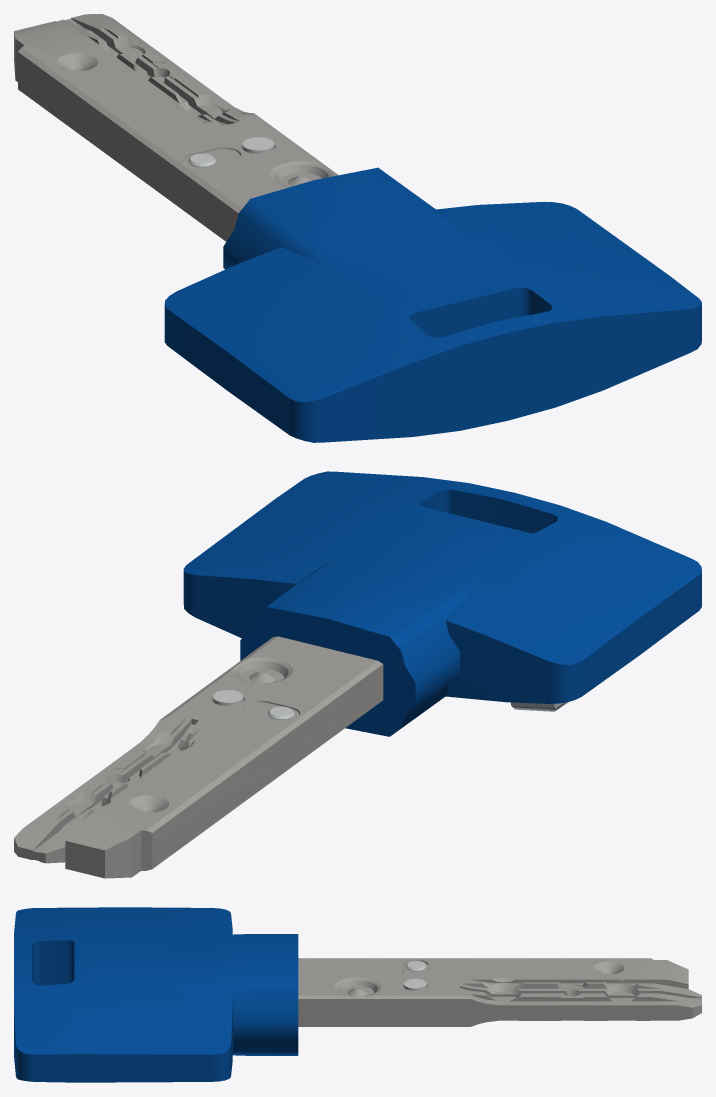
Rendered from CleScienceFiction.fbx.
3 views of the same model, one above another, from view 1: azimuth 30°, elevation 25°; view 2: azimuth 150°, elevation 25°; view 3: azimuth 270°, elevation 25° (orthographic). The views are drawn at different scales.
Visible parts, largest first — view 1: CleScienceFiction; view 2: CleScienceFiction; view 3: CleScienceFiction.
Boxes of the visible parts, x1,y1,x2,y2 form: CleScienceFiction: (14,14,701,442); CleScienceFiction: (14,471,701,878); CleScienceFiction: (14,907,701,1082).
Size of the model in its own units: 2.38 by 0.6154 by 4.7.
1 material, 1 textured.
